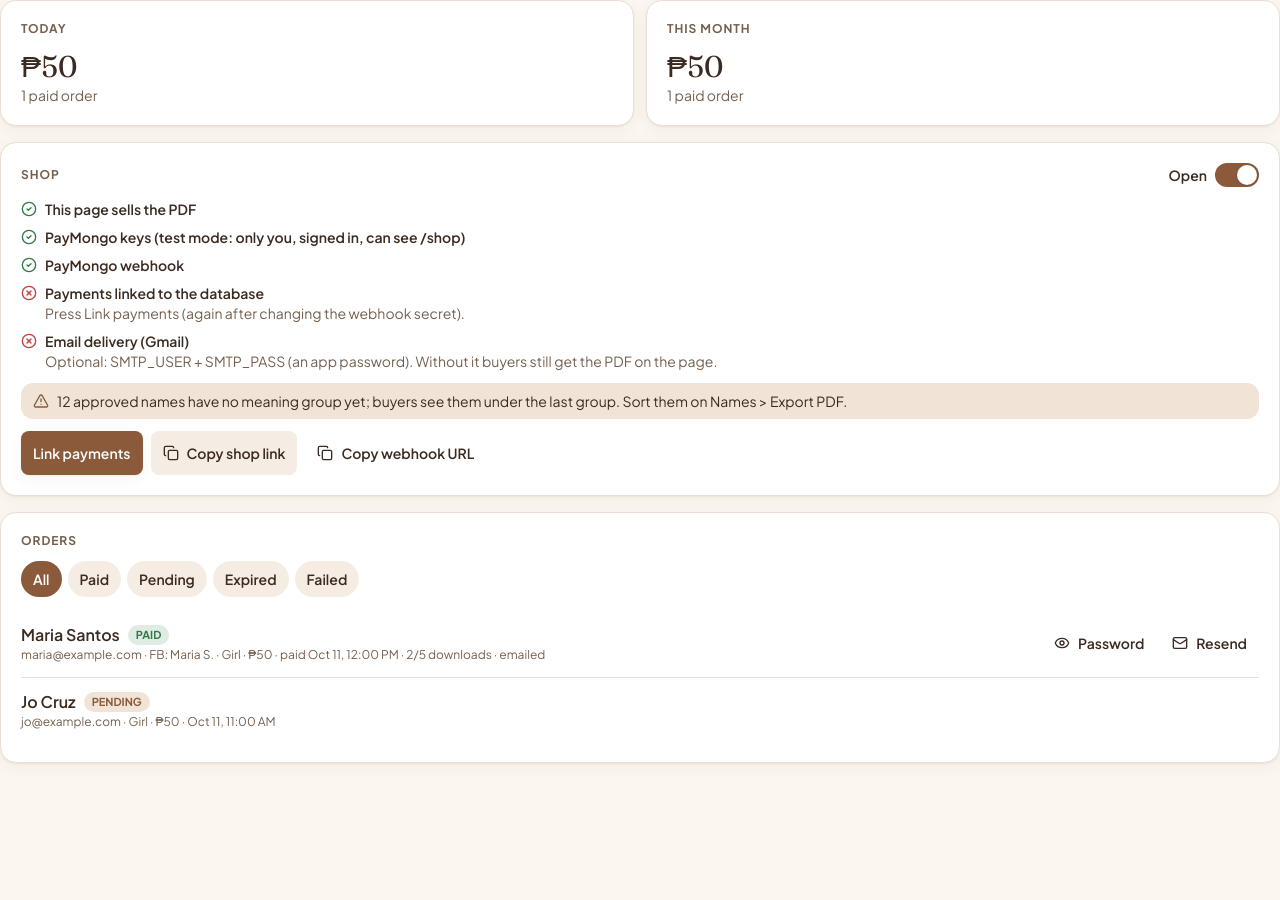
Test case: OrdersAdmin › lists orders, reveals a paid order's password on demand, and shows what setup is missing
Expected: the text "Maria Santos" is shown, 21,623 -> 120,647
Expected: the text "2/5 downloads · emailed" is shown, 399,647 -> 545,662
Click the button with aria-label "Show the password for Maria Santos" at (1099, 643), box 1042,621 -> 1156,665
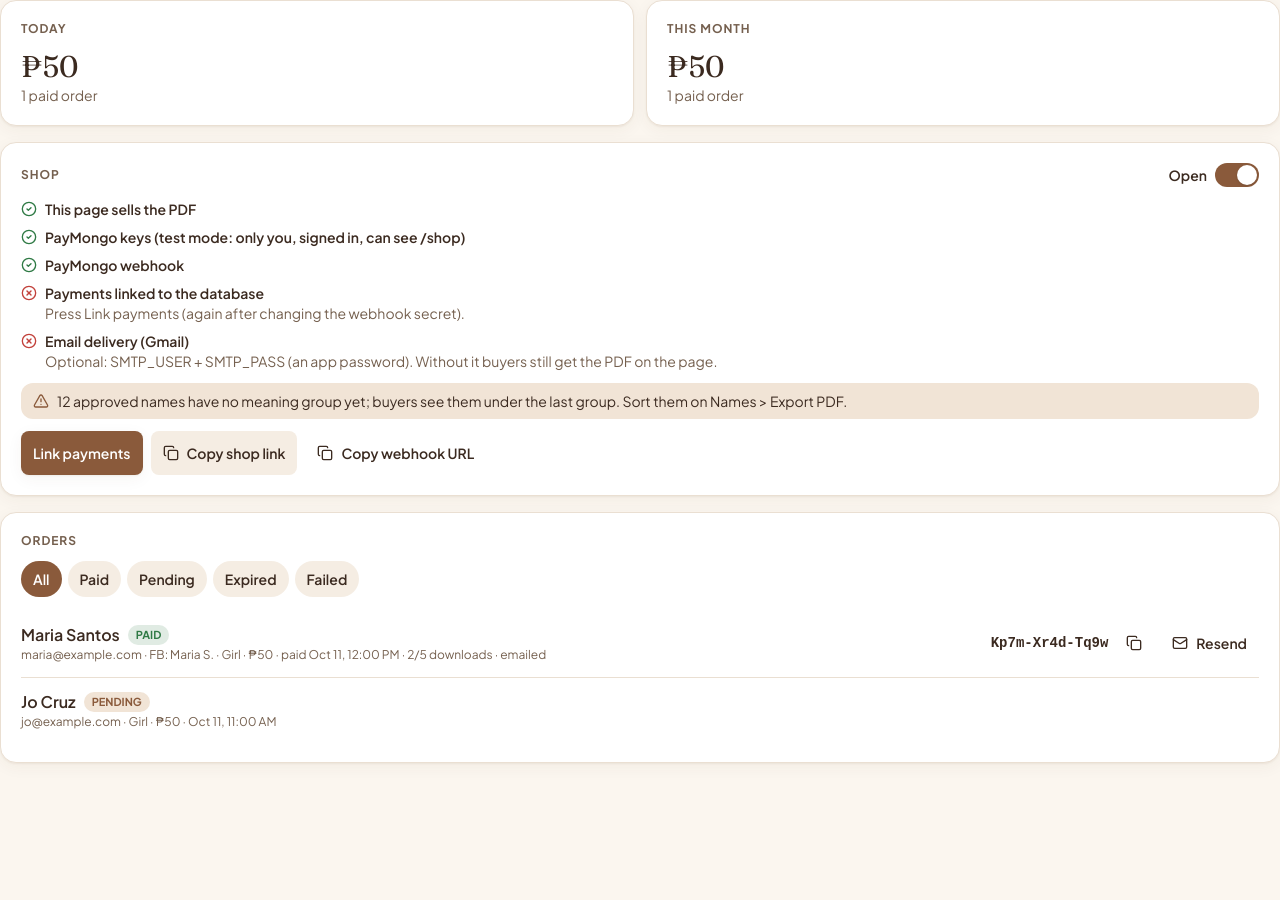
Expected: the text "Kp7m-Xr4d-Tq9w" is shown, 991,633 -> 1108,653
Click the button "paid" at (94, 579), box 68,561 -> 121,597
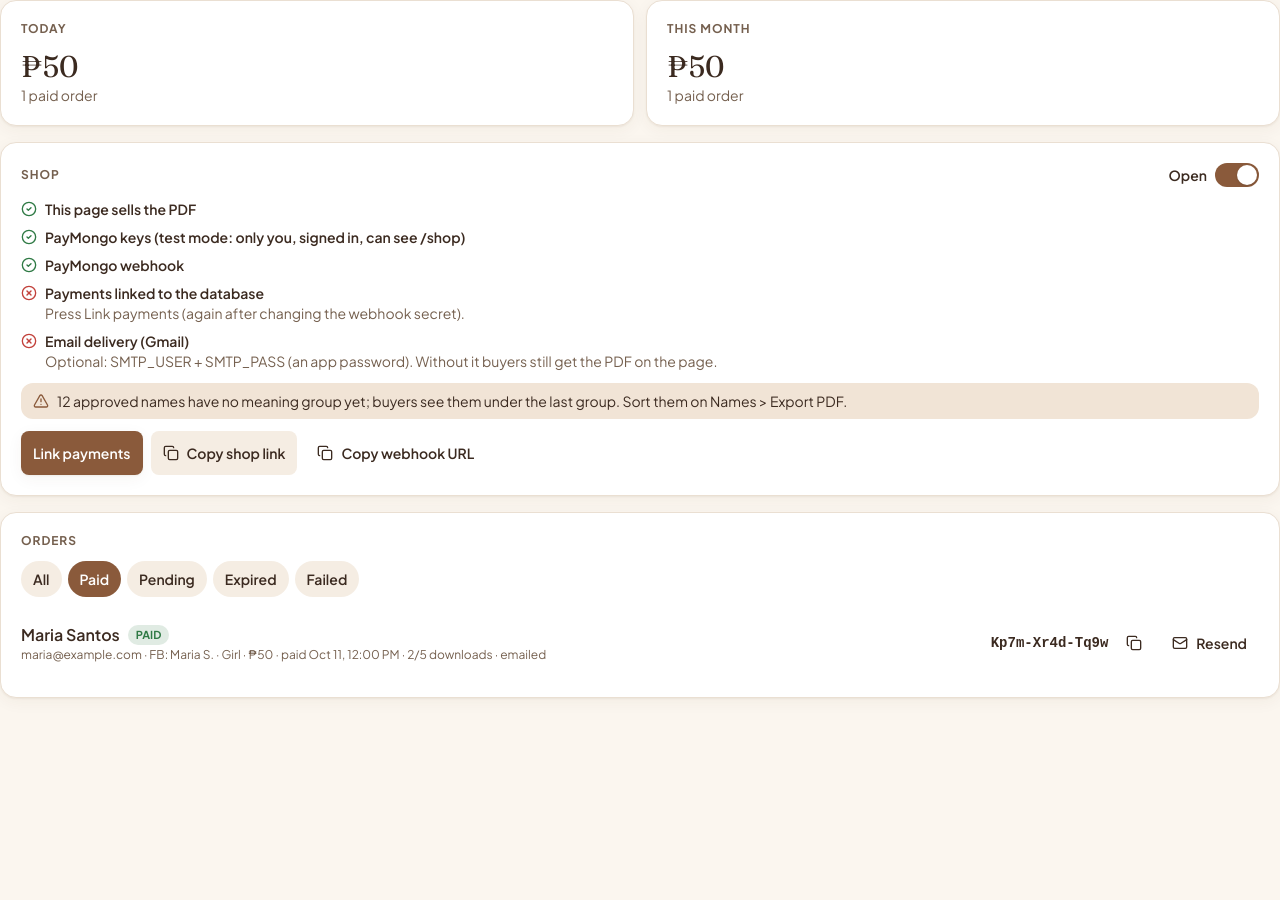
Expected: the text "Jo Cruz" is gone
